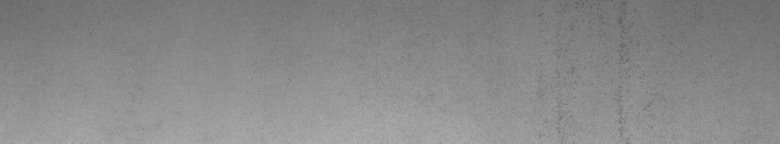ib: (559, 13, 651, 123)
